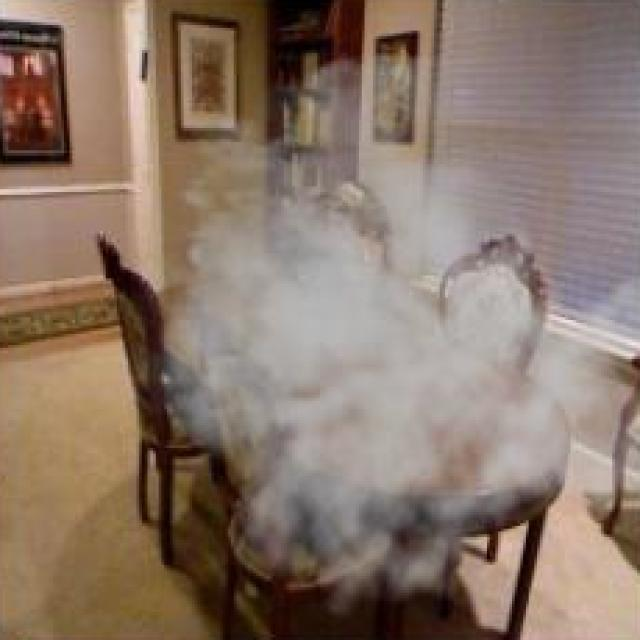fire: (109, 50, 640, 620)
